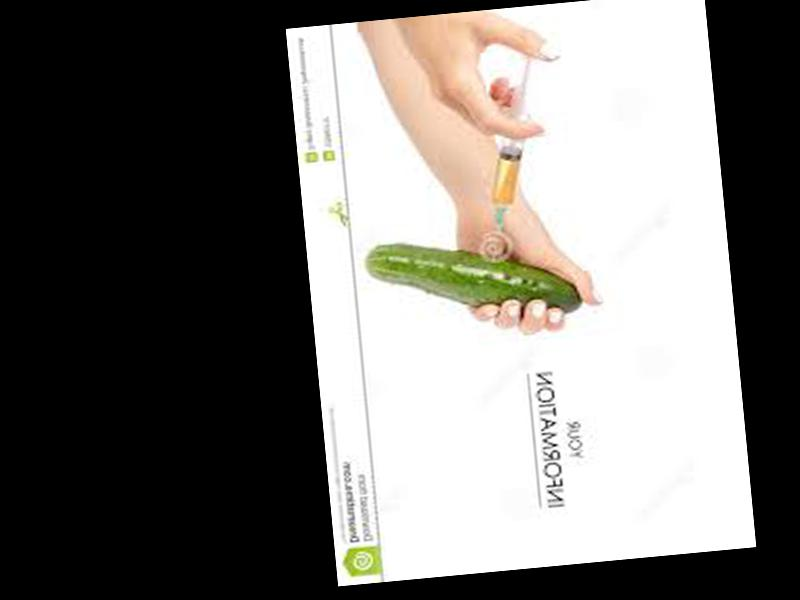Cucumber: (363, 226, 583, 331)
